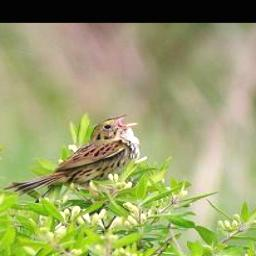Sparrow: (1, 113, 143, 202)
